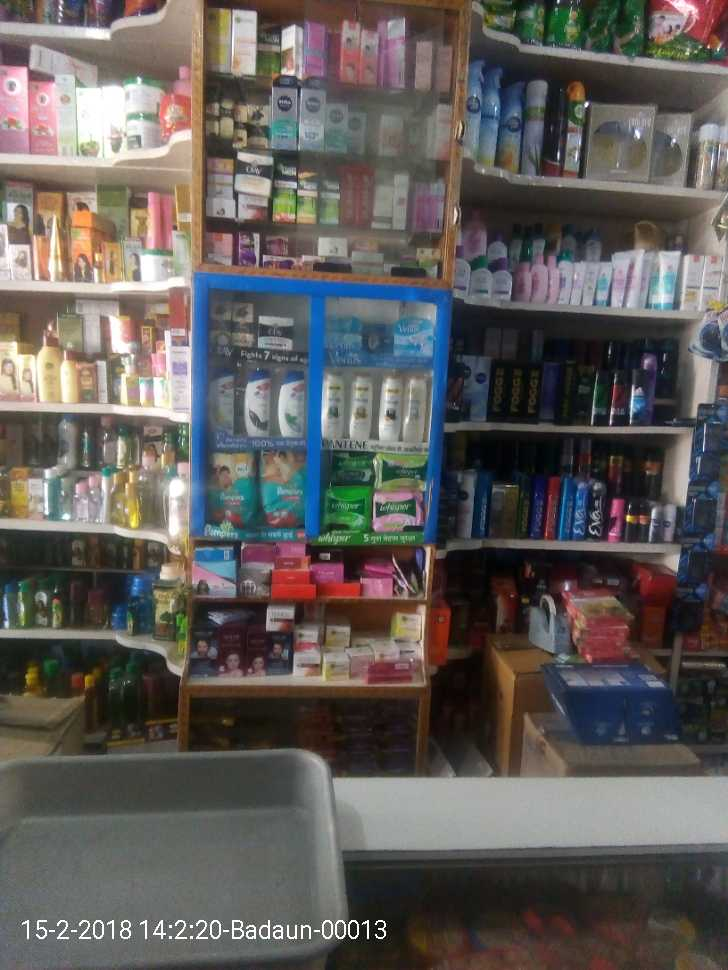ambipureVesus: (502, 69, 524, 172), (484, 63, 503, 166), (467, 52, 484, 166)
venus: (393, 319, 435, 354), (329, 317, 360, 347), (364, 326, 393, 354)
